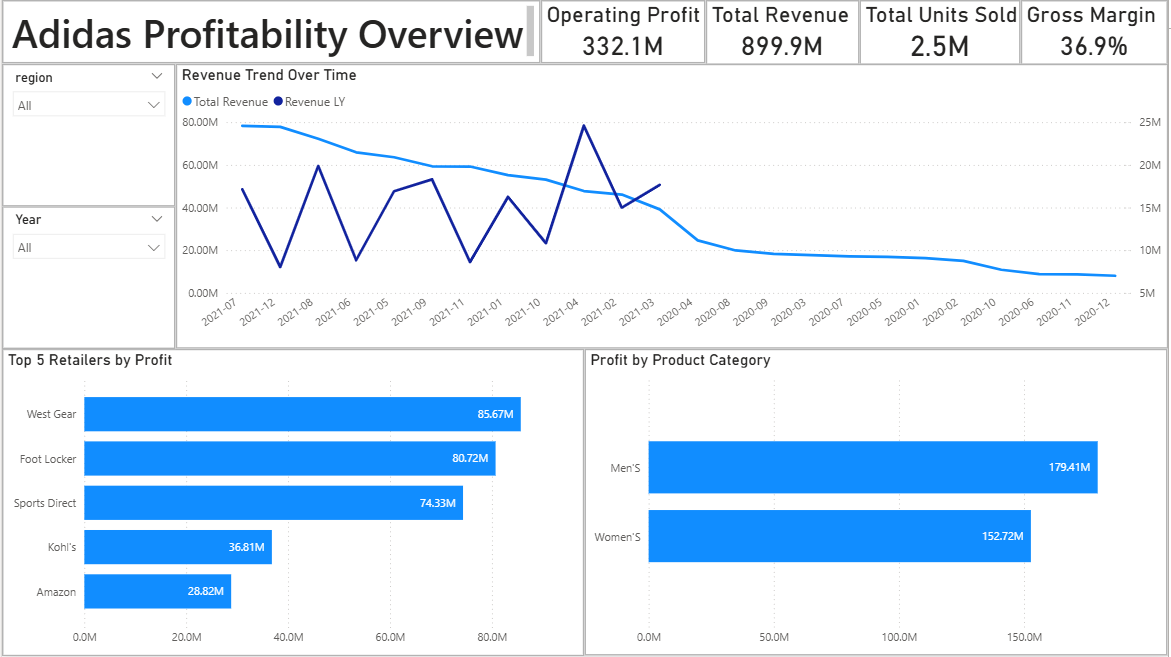

The page's visual inventory and layout, read from the dashboard file:
{"tool":"powerbi","page":{"name":"Executive Summary","canvas":[1280,720],"ordinal":0},"visuals":[{"type":"textbox","box":[0,0,591.4,70],"z":0},{"type":"card","title":"Operating Profit","fields":{"Values":["Table.Total Operating Profit"]},"box":[591.4,0,181.1,70],"z":1000},{"type":"card","title":"Total Units Sold","fields":{"Values":["Sum(Fact_Sales.units_sold)"]},"box":[941.3,0,177,71.4],"z":2000},{"type":"card","title":"Gross Margin","fields":{"Values":["Table.Gross Margin %"]},"box":[1118.4,0,161.9,71.4],"z":3000},{"type":"card","title":"Total Revenue","fields":{"Values":["Table.Total Revenue"]},"box":[772.6,0,168.8,71.4],"z":4000},{"type":"lineChart","title":"Revenue Trend Over Time","fields":{"Category":["Dim_Date.YearMonth"],"Y":["Table.Total Revenue"],"Y2":["Table.Revenue LY"]},"box":[190.7,70,1089.5,312.9],"z":5000},{"type":"barChart","title":"Profit by Product Category","fields":{"Y":["Table.Total Operating Profit"],"Category":["Dim_Product.grouped_category"]},"box":[640,383,640,337],"z":6000},{"type":"barChart","title":"Top 5 Retailers by Profit","fields":{"Y":["Table.Total Operating Profit"],"Category":["Dim_Retailer.retailer"]},"box":[0,382.8,639.5,337.6],"z":7000},{"type":"slicer","fields":{"Values":["Dim_Date.Year"]},"box":[0,226.4,190.7,156.4],"z":8000},{"type":"slicer","fields":{"Values":["Dim_Region.region"]},"box":[0,69.8,190.6,156.6],"z":9000}]}

Visuals, with their boxes in screenshot pixels (x1, y1, x2, y2), scaled from the page's 1280x720 canvas onto the 1171x657 screenshot:
textbox: [0, 0, 541, 64]
"Operating Profit" card: [541, 0, 707, 64]
"Total Units Sold" card: [861, 0, 1023, 65]
"Gross Margin" card: [1023, 0, 1170, 65]
"Total Revenue" card: [707, 0, 861, 65]
"Revenue Trend Over Time" lineChart: [174, 64, 1170, 349]
"Profit by Product Category" barChart: [586, 349, 1170, 656]
"Top 5 Retailers by Profit" barChart: [0, 349, 585, 656]
slicer - Dim_Date.Year: [0, 207, 174, 349]
slicer - Dim_Region.region: [0, 64, 174, 207]
